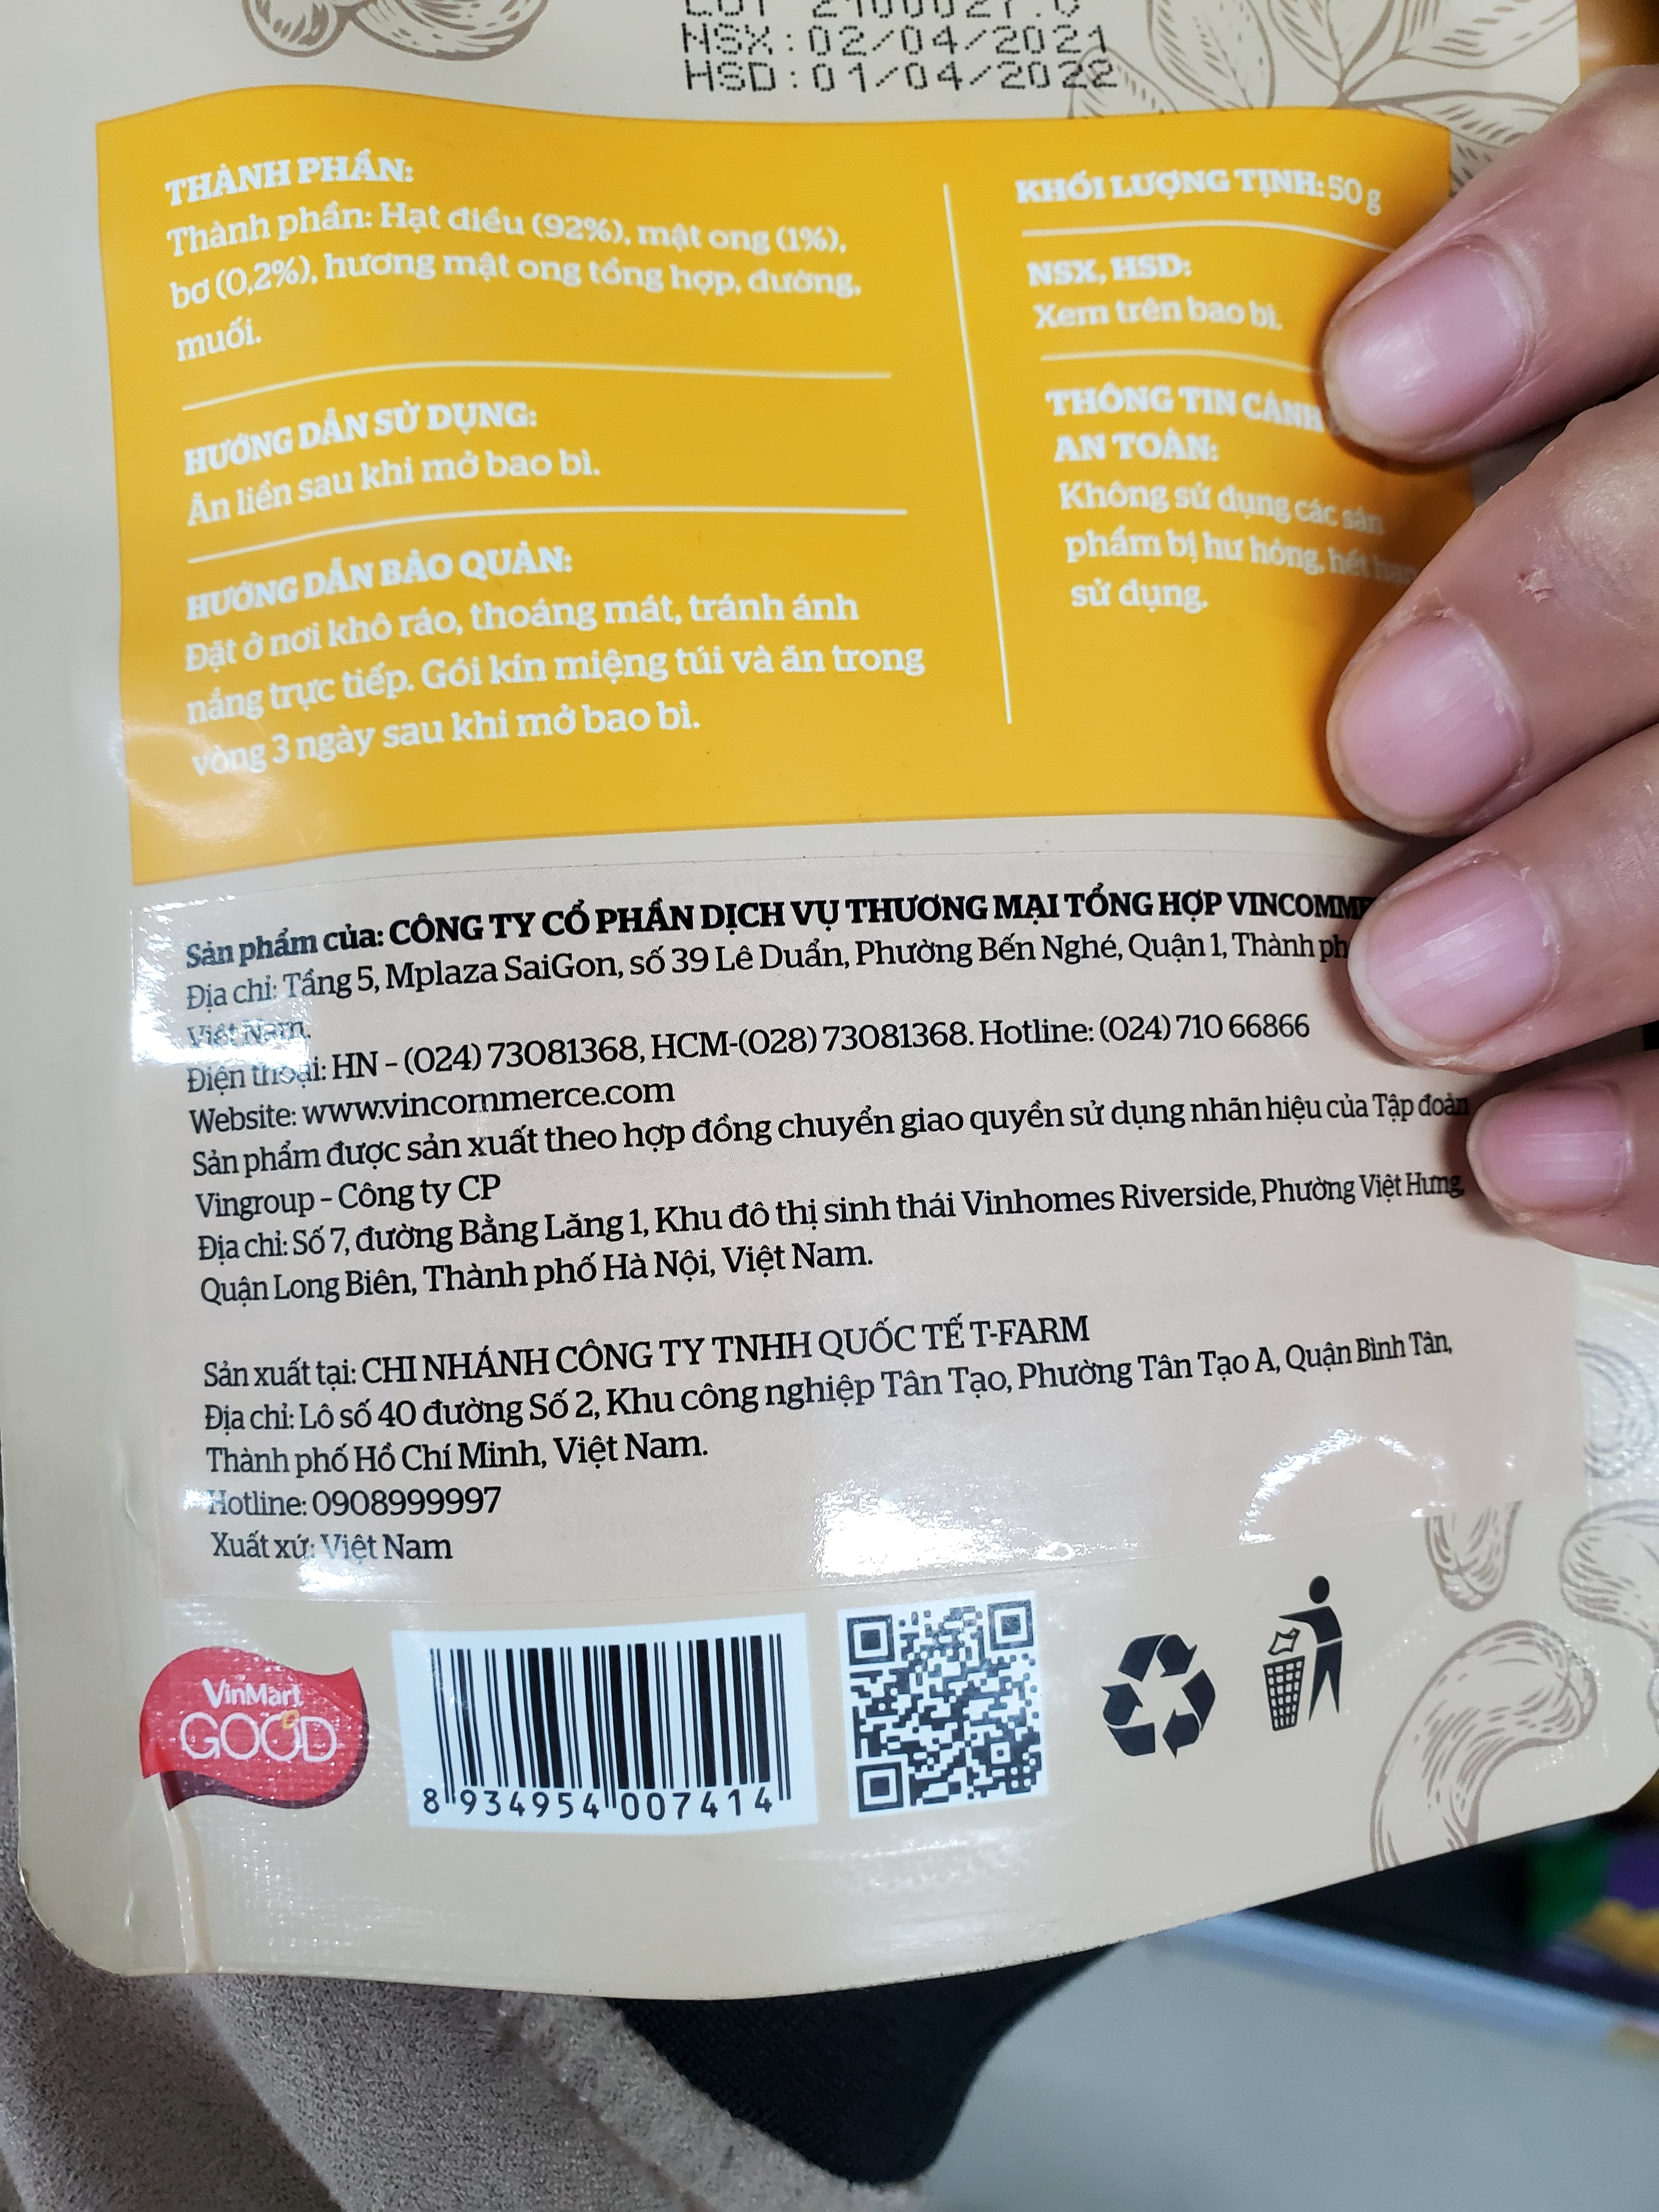barcode: (390, 1618, 807, 1838)
qr code: (835, 1580, 1060, 1811)
